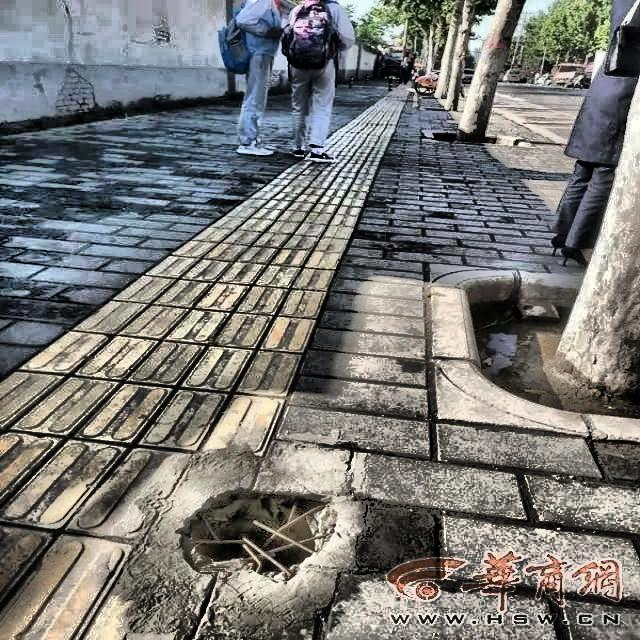buraco: (178, 486, 337, 582)
